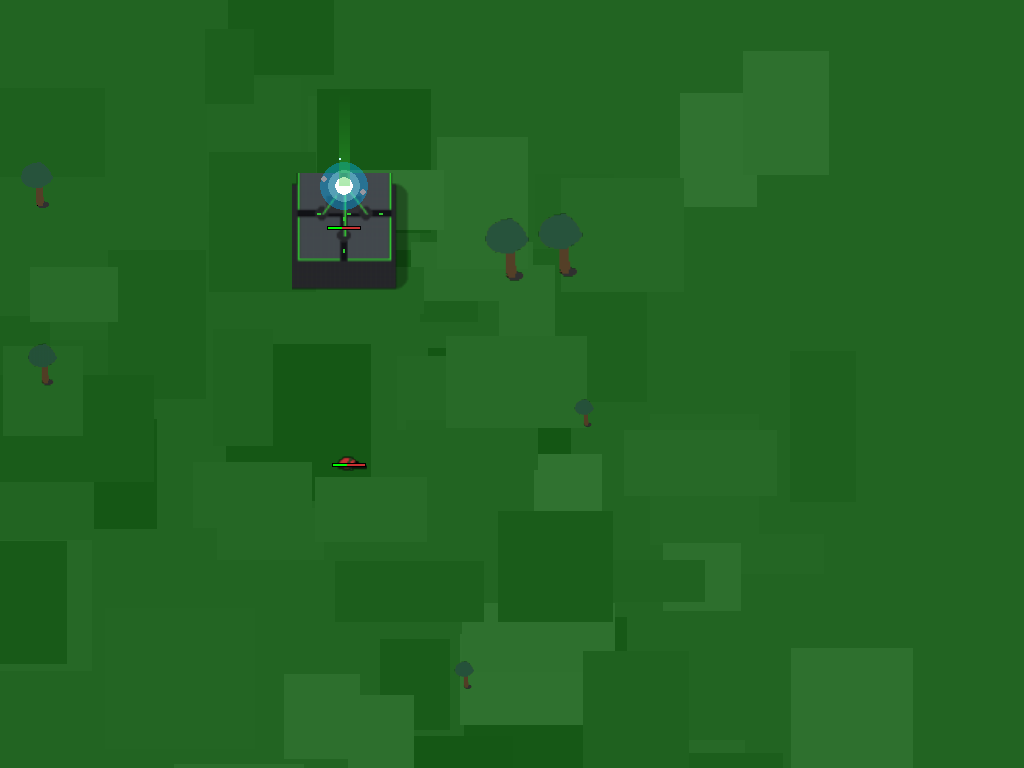Lake: (287, 168, 402, 283)
Sniper: (330, 443, 369, 482)
